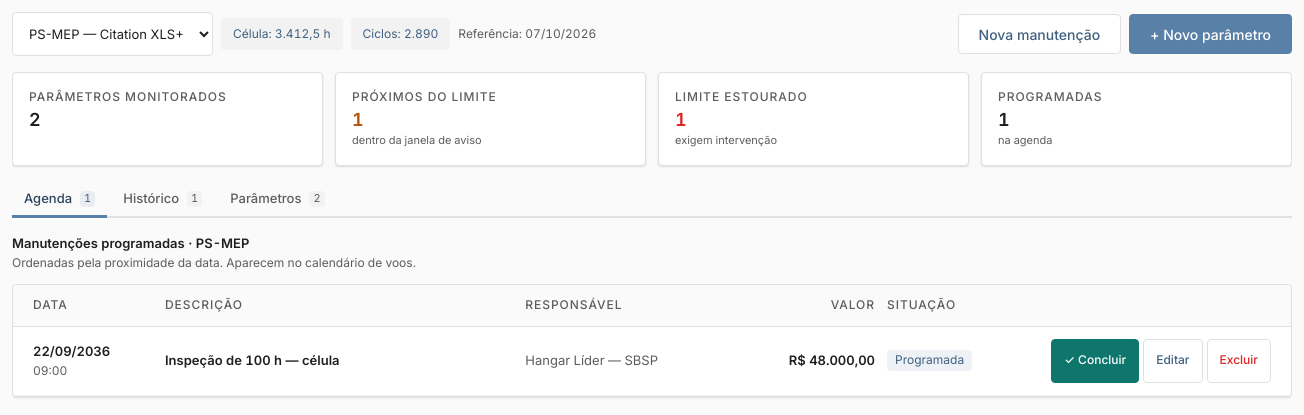
it: PaginaDeManutencao › a agenda abre primeiro e oferece concluir; o histórico oferece reabrir
Expected: the text "Inspeção de 100 h — célula" is shown, [165,352,340,368]
Expected: the text "Programada" is shown, [887,350,972,371]
What coordinates should you click on to do the following:
click the tab "Histórico 1"
I would click on:
 (163, 200)
Its box is [111,182,214,218].
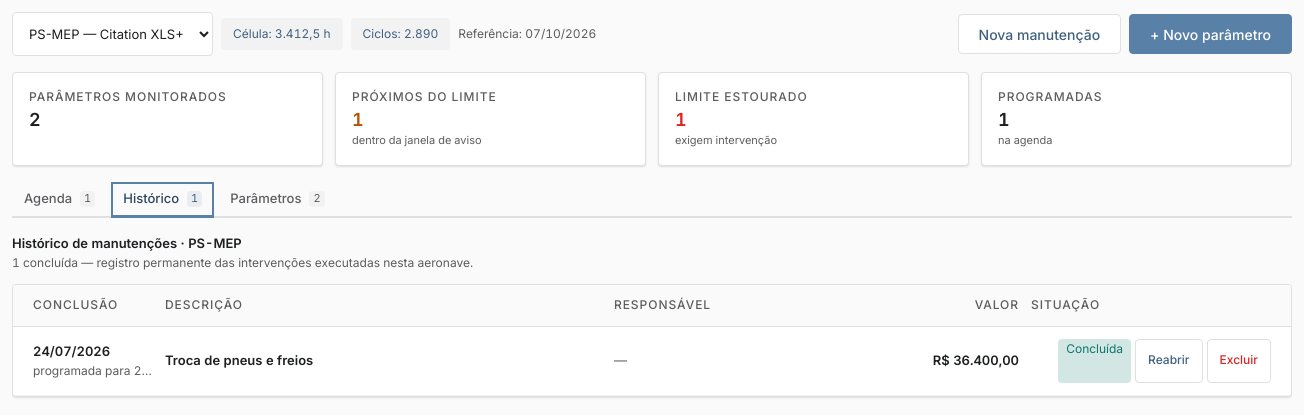
Expected: the button "Concluir" is not shown
Expected: the text "Concluída" is shown, [1058,339,1131,383]
